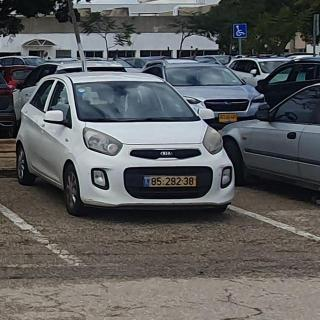LicensePlate: (151, 177, 196, 186)
